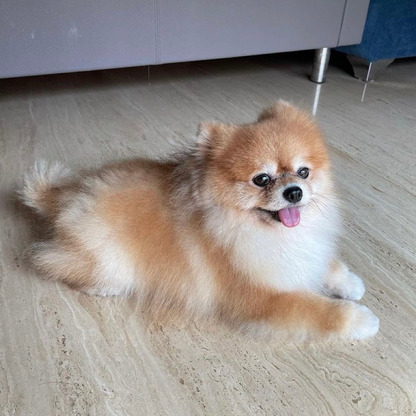Pomeranian: (19, 94, 381, 351)
